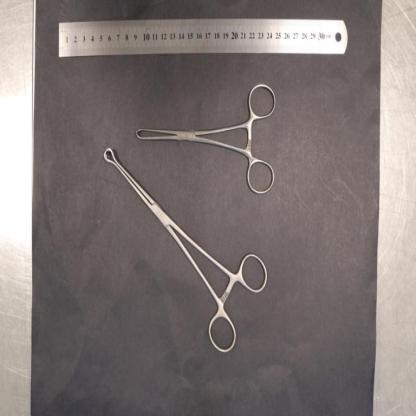8 Babcock Tissue Forceps: (102, 146, 270, 356)
Allis Tissue Forceps: (136, 84, 278, 198)
